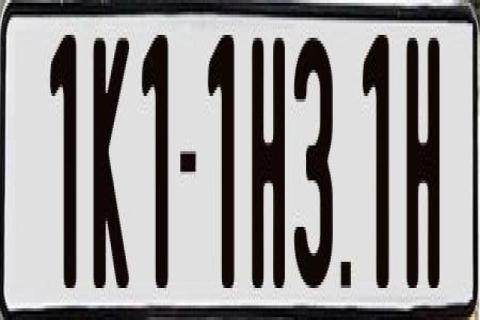0: (293, 38, 336, 288), (207, 32, 240, 294), (360, 35, 392, 297), (49, 35, 78, 294), (140, 32, 168, 288)
H: (250, 29, 286, 288), (404, 29, 440, 282)
K: (94, 35, 134, 288)
